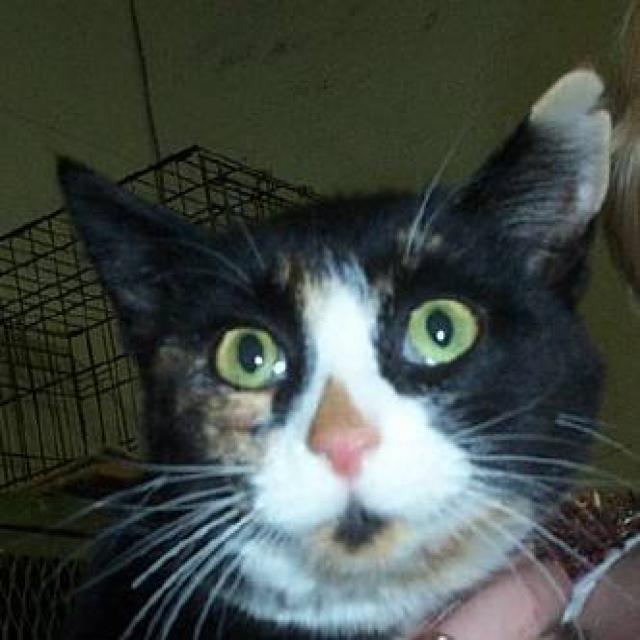cat: (46, 61, 638, 638)
